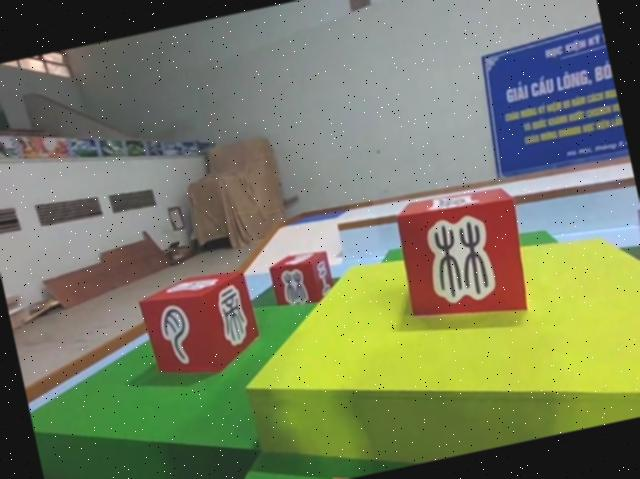R2 Fake: (385, 177, 539, 336), (134, 265, 267, 389), (265, 244, 338, 313)
